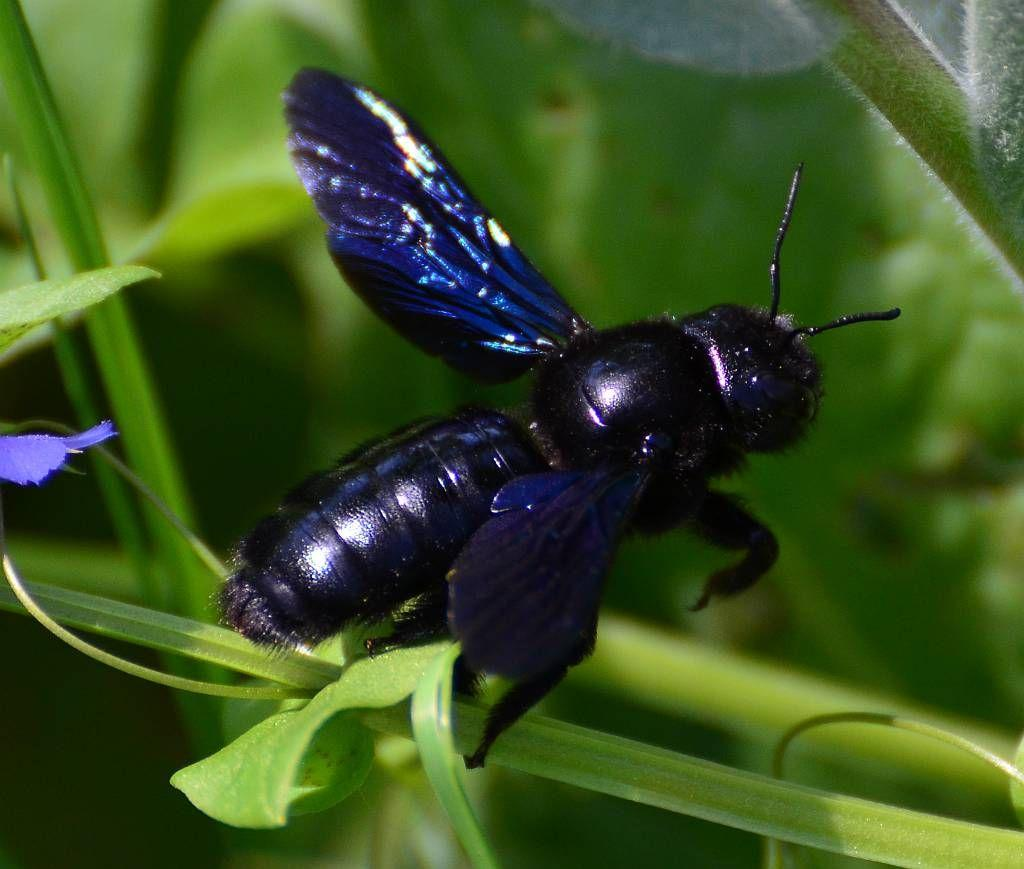Xylocopa: (195, 35, 893, 753)
